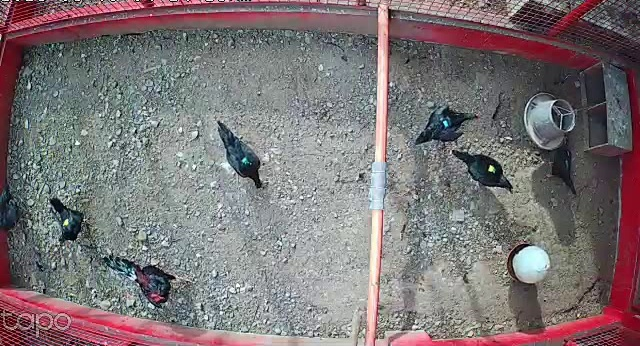Chicken: (214, 117, 265, 191), (412, 102, 482, 150), (448, 145, 516, 192), (44, 192, 93, 251), (545, 136, 579, 198), (0, 181, 27, 238)
Rooster: (103, 249, 195, 312)
Saddle_Color_Blue: (440, 116, 449, 129)
Saddle_Color_Yellow: (64, 218, 69, 227)
